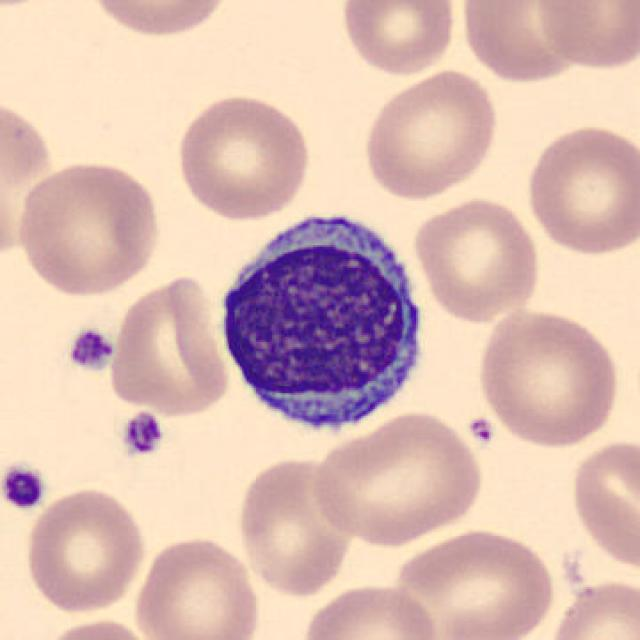Lymphocyte: (210, 200, 434, 444)
Platelets: (64, 324, 117, 376), (0, 460, 48, 513), (119, 409, 165, 460), (466, 414, 496, 448)
RBC: (306, 407, 489, 547), (473, 305, 624, 450), (10, 157, 164, 298), (359, 65, 501, 203), (390, 525, 558, 640), (105, 272, 233, 419), (172, 90, 314, 222), (233, 453, 357, 600), (411, 194, 544, 324), (22, 485, 150, 615), (523, 120, 638, 257), (130, 532, 263, 640), (457, 0, 606, 85), (0, 90, 62, 263), (567, 434, 640, 574), (336, 0, 458, 79), (298, 580, 442, 640), (531, 0, 638, 72), (80, 0, 236, 41), (544, 576, 638, 640), (36, 615, 160, 640)
